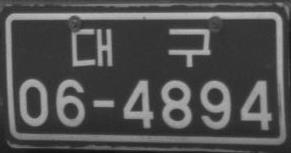0: (18, 77, 49, 126)
4: (240, 79, 273, 130), (122, 79, 153, 129)
6: (54, 77, 85, 127)
8: (160, 78, 192, 129)
9: (199, 79, 231, 129)
대구_D: (70, 27, 210, 68)
